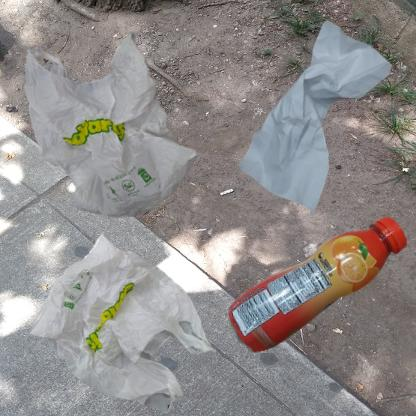bolsa: (10, 10, 225, 256), (10, 213, 234, 416)
botella: (213, 213, 416, 376)
papel: (213, 10, 416, 236)
